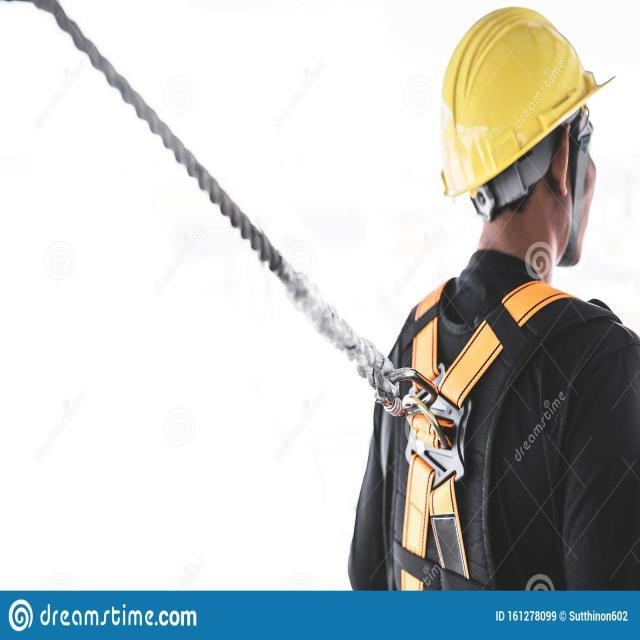Arnes_seguridad: (351, 325, 519, 590)
